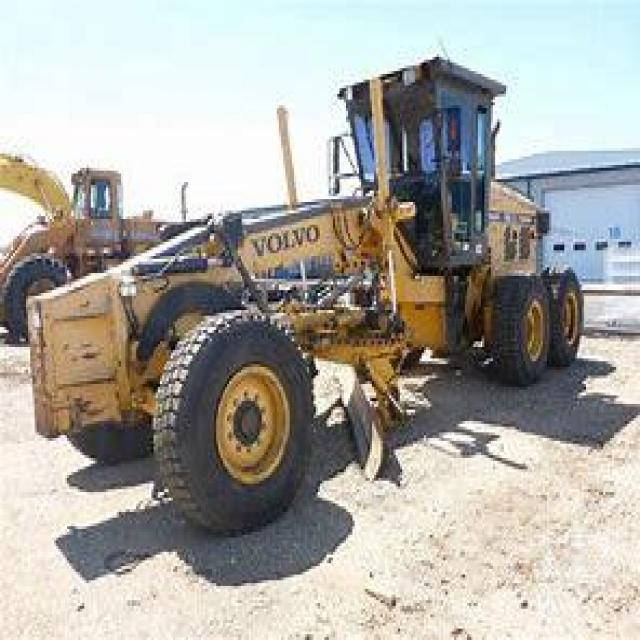Grader: (9, 51, 625, 532)
